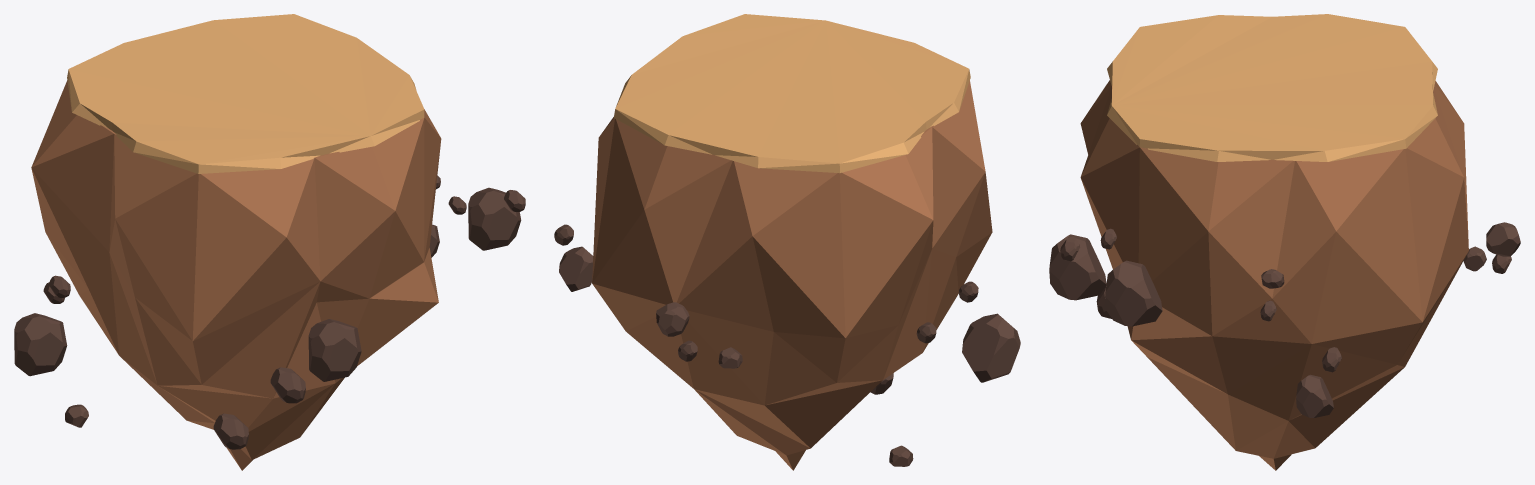
The model's file is Art_21Feb_Platform.fbx.
3 renders of one model, left to right at view 1: azimuth 30°, elevation 25°; view 2: azimuth 150°, elevation 25°; view 3: azimuth 270°, elevation 25°, orthographic. The views are drawn at different scales.
Visible parts, largest first — view 1: platorm, top, PlatformDecoration, PlatformDecoration.011, PlatformDecoration.009, PlatformDecoration.016, PlatformDecoration.001; view 2: platorm, top, PlatformDecoration, PlatformDecoration.010, PlatformDecoration.013; view 3: platorm, top, PlatformDecoration.009, PlatformDecoration.011, PlatformDecoration.010, PlatformDecoration.013.
Part boxes in pixels (box(x1,y1,x2,y2)): platorm: box(31, 80, 441, 470); top: box(67, 14, 424, 173); PlatformDecoration: box(14, 313, 67, 376); PlatformDecoration.011: box(308, 319, 361, 381); PlatformDecoration.009: box(468, 187, 521, 250); PlatformDecoration.016: box(270, 367, 305, 403); PlatformDecoration.001: box(213, 413, 248, 449); platorm: box(592, 80, 992, 470); top: box(613, 14, 970, 173); PlatformDecoration: box(962, 313, 1020, 382); PlatformDecoration.010: box(559, 246, 593, 291); PlatformDecoration.013: box(656, 302, 689, 336); platorm: box(1080, 80, 1468, 470); top: box(1107, 14, 1437, 161); PlatformDecoration.009: box(1105, 260, 1162, 326); PlatformDecoration.011: box(1049, 234, 1106, 300); PlatformDecoration.010: box(1296, 374, 1333, 418); PlatformDecoration.013: box(1486, 222, 1520, 256).
Size of the model in its own units: 391 by 326 by 358.
